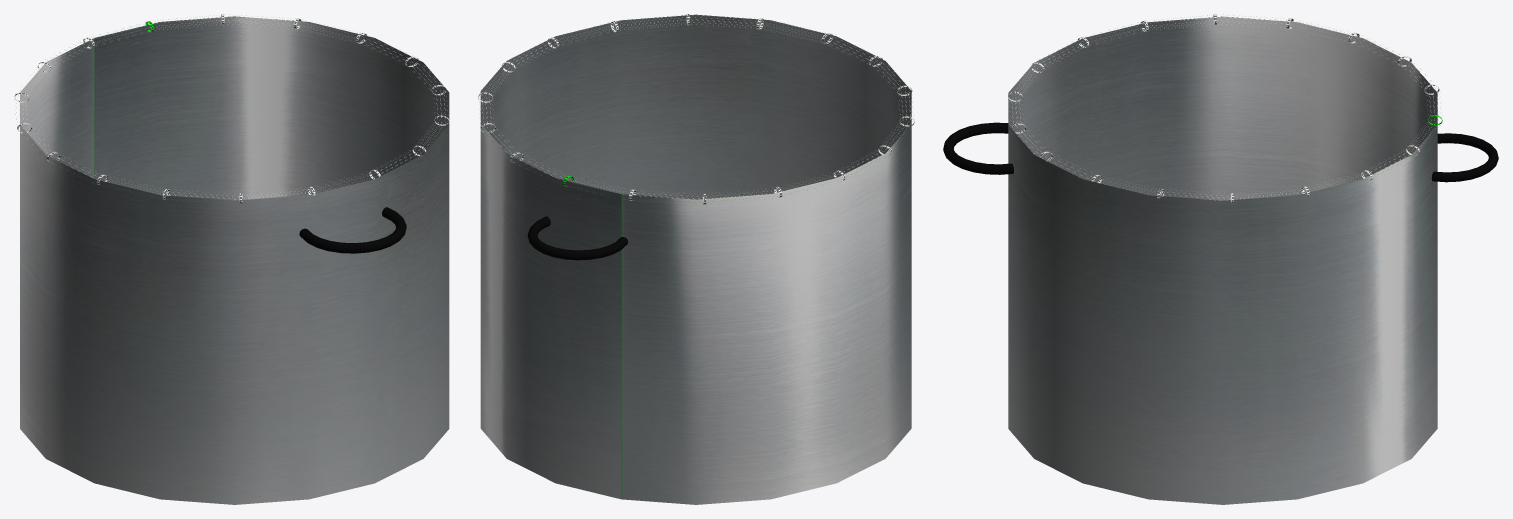
The model's file is garnek.FBX.
3 views of the same model, side by side, from view 1: azimuth 30°, elevation 25°; view 2: azimuth 150°, elevation 25°; view 3: azimuth 270°, elevation 25° (orthographic).
Visible parts, largest first — view 1: Cylinder001, Torus004, Torus003; view 2: Cylinder001, Torus004, Torus002; view 3: Cylinder001, Torus004, Torus003, Torus002.
Part boxes in pixels (box(x1,y1,x2,y2)): Cylinder001: box(20, 16, 449, 504); Torus004: box(14, 14, 449, 203); Torus003: box(299, 207, 406, 253); Cylinder001: box(480, 14, 911, 504); Torus004: box(478, 14, 914, 204); Torus002: box(527, 216, 627, 260); Cylinder001: box(1008, 16, 1437, 504); Torus004: box(1008, 14, 1442, 203); Torus003: box(943, 122, 1013, 174); Torus002: box(1431, 133, 1498, 182).
Size of the model in its own units: 24.38 by 18.84 by 30.85.
